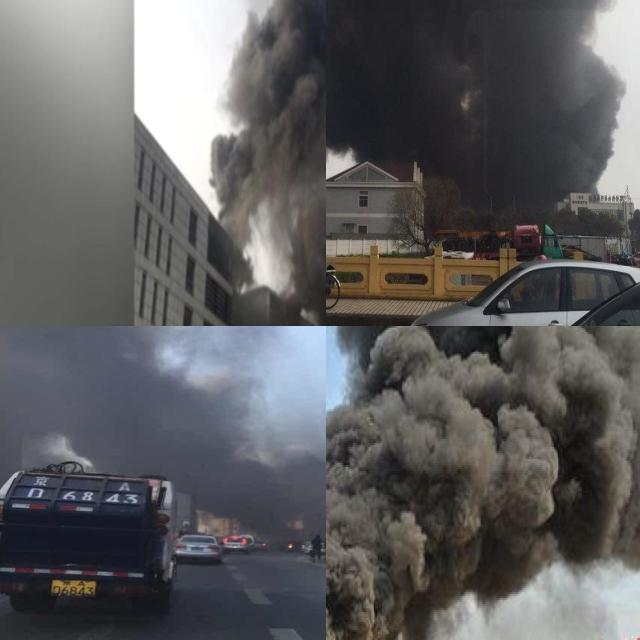smoke: (326, 326, 640, 640), (0, 326, 326, 547), (326, 0, 640, 222), (204, 0, 326, 326)
